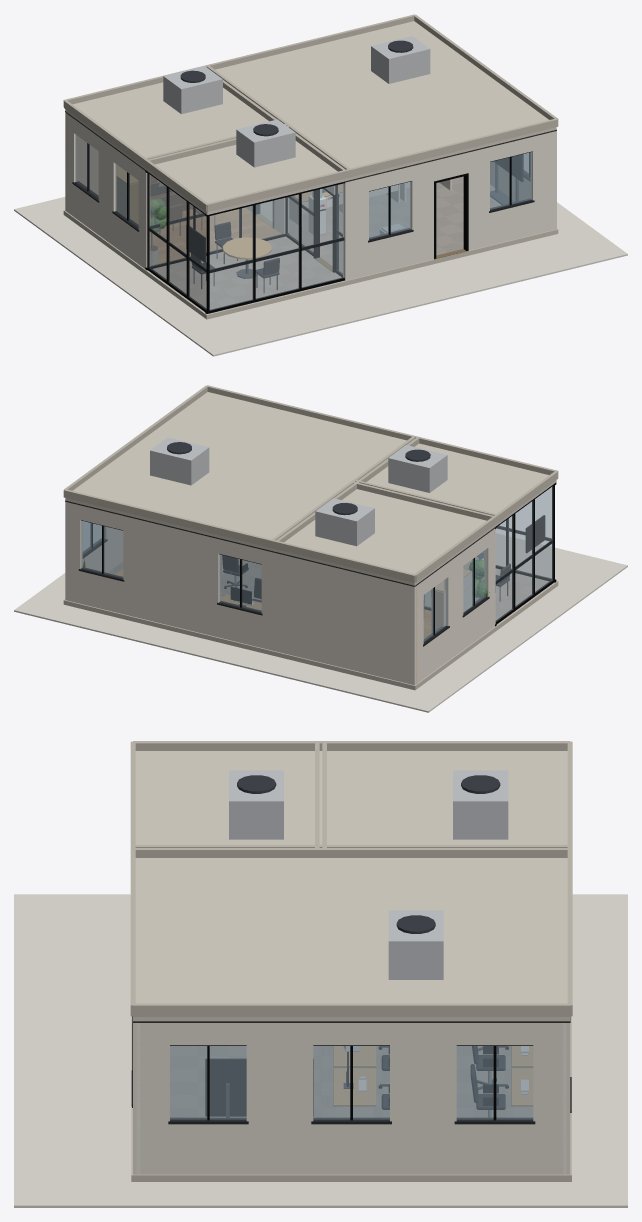
File: diretoria-equipe.glb
3 views of the same model, one above another, from view 1: azimuth 30°, elevation 25°; view 2: azimuth 150°, elevation 25°; view 3: azimuth 270°, elevation 25° (orthographic). The views are drawn at different scales.
Parts seen in each view (by area): view 1: teto_malha, paredes_malha, terreno_malha, divisorias_vidro_malha, piso_carpete_malha, esquadrias_malha, janelas_malha, laje_malha, piso_madeira_malha, mesa-reuniao-redonda_malha, estante_malha, tv-pedestal_malha (+3 smaller); view 2: teto_malha, paredes_malha, terreno_malha, janelas_malha, divisorias_vidro_malha, esquadrias_malha, laje_malha, piso_carpete_malha, estante_malha, paredes_topo_malha, quadro-arte_malha; view 3: teto_malha, terreno_malha, paredes_malha, janelas_malha, piso_carpete_malha, laje_malha, mesa-reta_malha (×3), esquadrias_malha, tv-pedestal_malha, cadeira-escritorio_malha (×2), paredes_topo_malha.
Boxes of the visible parts, box(x1,y1,x2,y2) form: teto_malha: box(63, 14, 558, 214); paredes_malha: box(65, 112, 556, 280); terreno_malha: box(14, 197, 627, 356); divisorias_vidro_malha: box(149, 174, 343, 310); piso_carpete_malha: box(153, 176, 501, 309); esquadrias_malha: box(72, 143, 534, 313); janelas_malha: box(75, 134, 531, 239); laje_malha: box(63, 210, 558, 319); piso_madeira_malha: box(150, 208, 280, 263); mesa-reuniao-redonda_malha: box(222, 237, 271, 278); estante_malha: box(117, 166, 138, 224); tv-pedestal_malha: box(490, 154, 523, 204); teto_malha: box(63, 385, 558, 585); paredes_malha: box(65, 502, 495, 685); terreno_malha: box(14, 533, 627, 712); janelas_malha: box(81, 521, 486, 641); divisorias_vidro_malha: box(424, 486, 552, 621); esquadrias_malha: box(78, 482, 556, 646); laje_malha: box(63, 581, 558, 690); piso_carpete_malha: box(108, 559, 548, 619); estante_malha: box(431, 569, 471, 633); paredes_topo_malha: box(65, 500, 495, 586); quadro-arte_malha: box(525, 515, 545, 552); teto_malha: box(130, 741, 572, 1021); terreno_malha: box(14, 894, 627, 1207); paredes_malha: box(133, 1023, 570, 1174); janelas_malha: box(170, 1046, 533, 1119); piso_carpete_malha: box(170, 1046, 513, 1117); laje_malha: box(131, 1016, 571, 1181); mesa-reta_malha (×3): box(333, 1046, 532, 1117); esquadrias_malha: box(131, 1016, 571, 1124); tv-pedestal_malha: box(205, 1059, 313, 1117); cadeira-escritorio_malha (×2): box(471, 1046, 508, 1117); paredes_topo_malha: box(132, 1016, 570, 1022).
Size of the model in its own units: 12 by 3.81 by 10.
17 materials, 4 textured.
